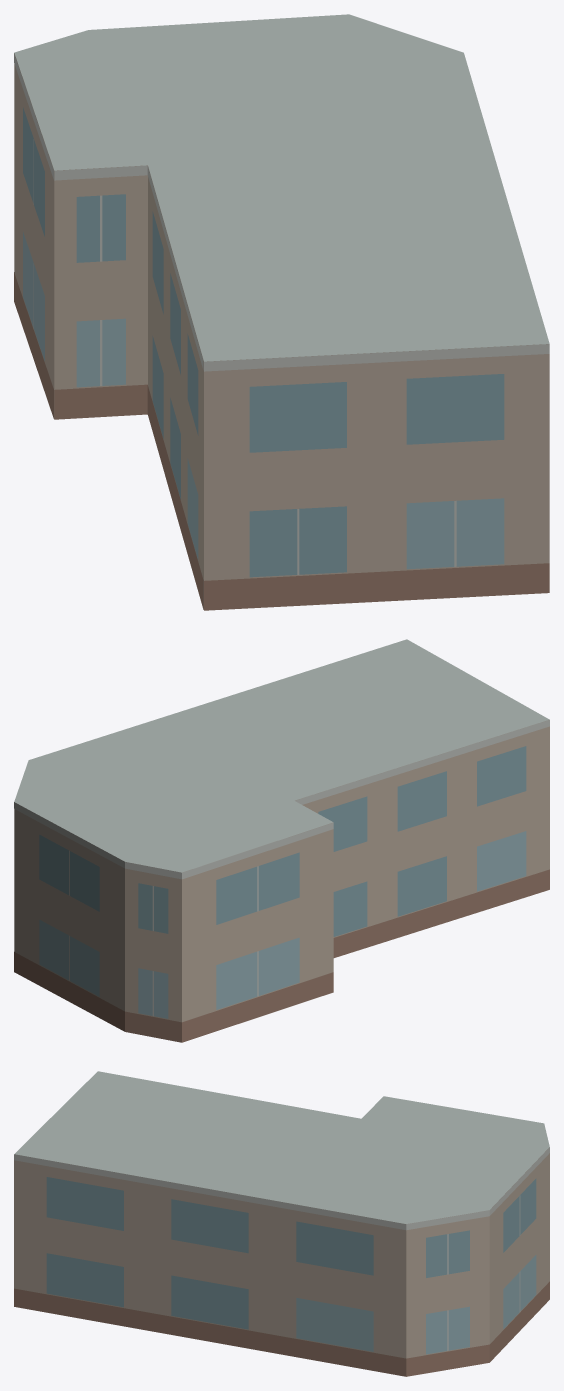
The model's file is survey-upis-32682177.glb.
3 renders of one model, top to bottom at view 1: azimuth 30°, elevation 25°; view 2: azimuth 150°, elevation 25°; view 3: azimuth 270°, elevation 25°, orthographic. The views are drawn at different scales.
Parts seen in each view (by area): view 1: survey-upis-32682177.tmp; view 2: survey-upis-32682177.tmp; view 3: survey-upis-32682177.tmp.
Boxes of the visible parts, bbox=[...] form: survey-upis-32682177.tmp: bbox=[14, 14, 549, 610]; survey-upis-32682177.tmp: bbox=[14, 639, 549, 1042]; survey-upis-32682177.tmp: bbox=[14, 1071, 549, 1376].
Bounding box in the file's own units: 13.13 × 6.1 × 19.42.
